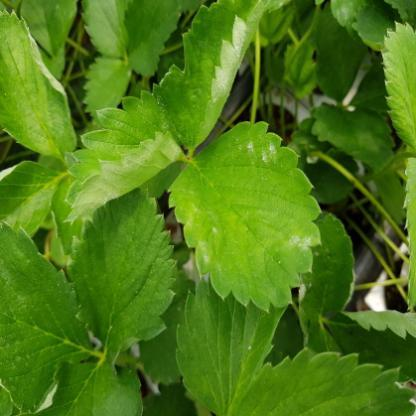Strawberry_Powdery_Mildew_Leaf: (166, 121, 322, 314), (152, 0, 272, 154), (62, 89, 187, 224), (0, 9, 78, 165)
